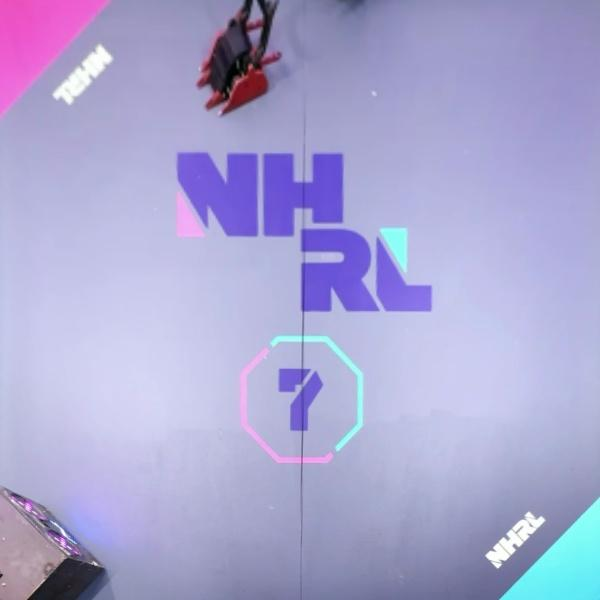housebot: (0, 486, 108, 600)
robot: (196, 1, 283, 113)
